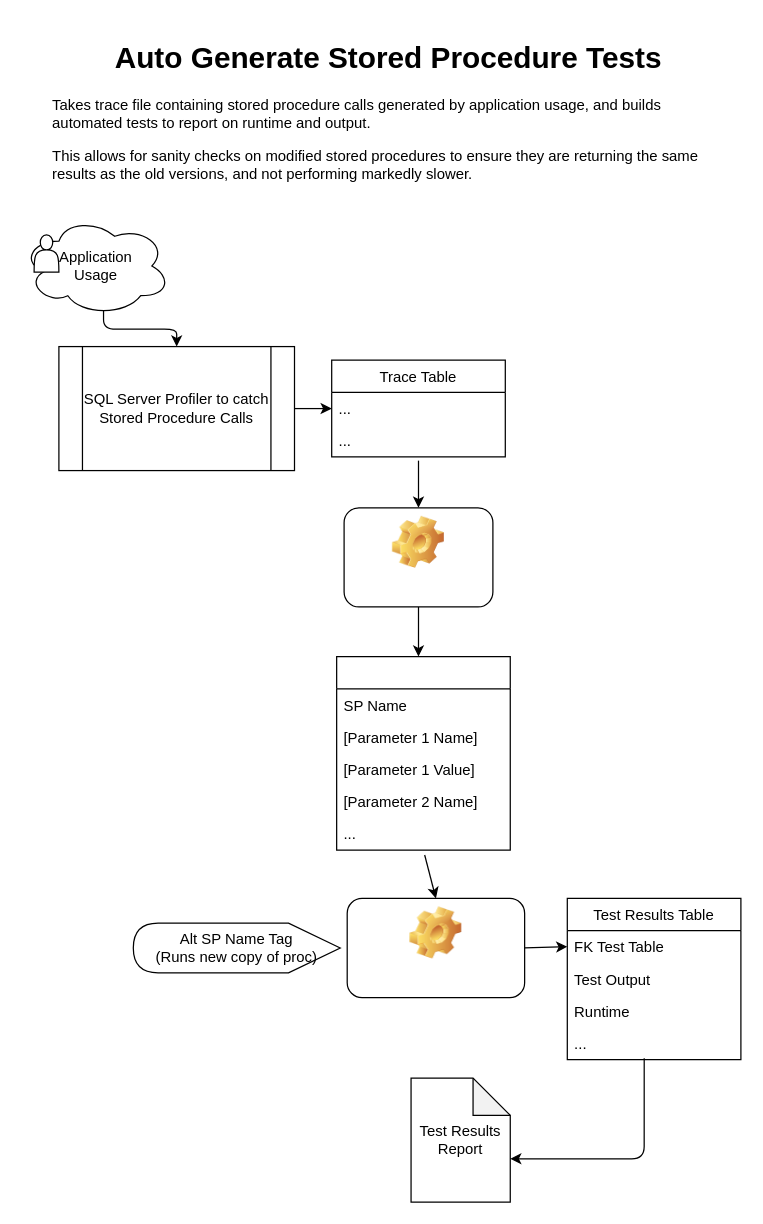
The diagram is 763 pixels wide and 1224 high, and some of its shapes have lost their labels. Here are the shapes that lost their labels. From the top down, the box of each, then its label:
(343, 507, 493, 607): Parse [TextData]
(335, 655, 510, 850): Test Table
(346, 897, 525, 998): Generate and Run Test Calls
